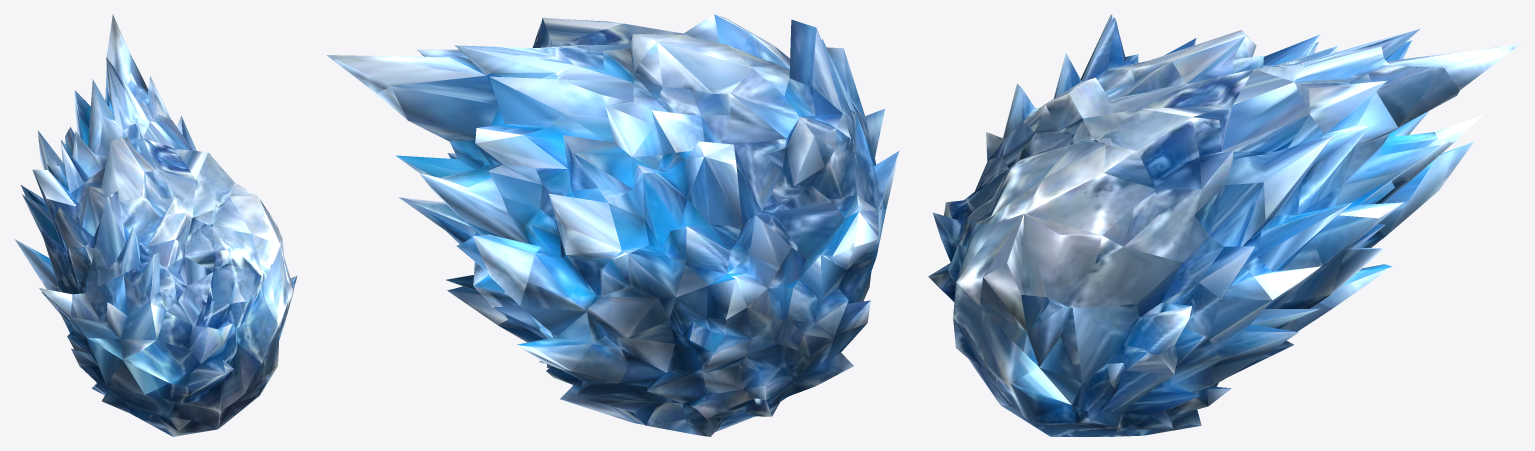
File: comet_blue_01.glb
3 views of the same model, side by side, from view 1: azimuth 30°, elevation 25°; view 2: azimuth 150°, elevation 25°; view 3: azimuth 270°, elevation 25° (orthographic). The views are drawn at different scales.
Visible parts, largest first — view 1: Mesh_0; view 2: Mesh_0; view 3: Mesh_0.
Part boxes in pixels (<box>): Mesh_0: <box>15,14,297,436</box>; Mesh_0: <box>327,14,899,436</box>; Mesh_0: <box>928,14,1520,436</box>.
Bounding box in the file's own units: 1.29 × 1.57 × 1.92.
1 material, 1 textured.
